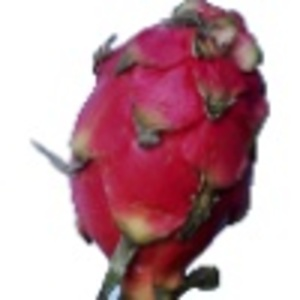pitaia: (35, 1, 271, 300)
